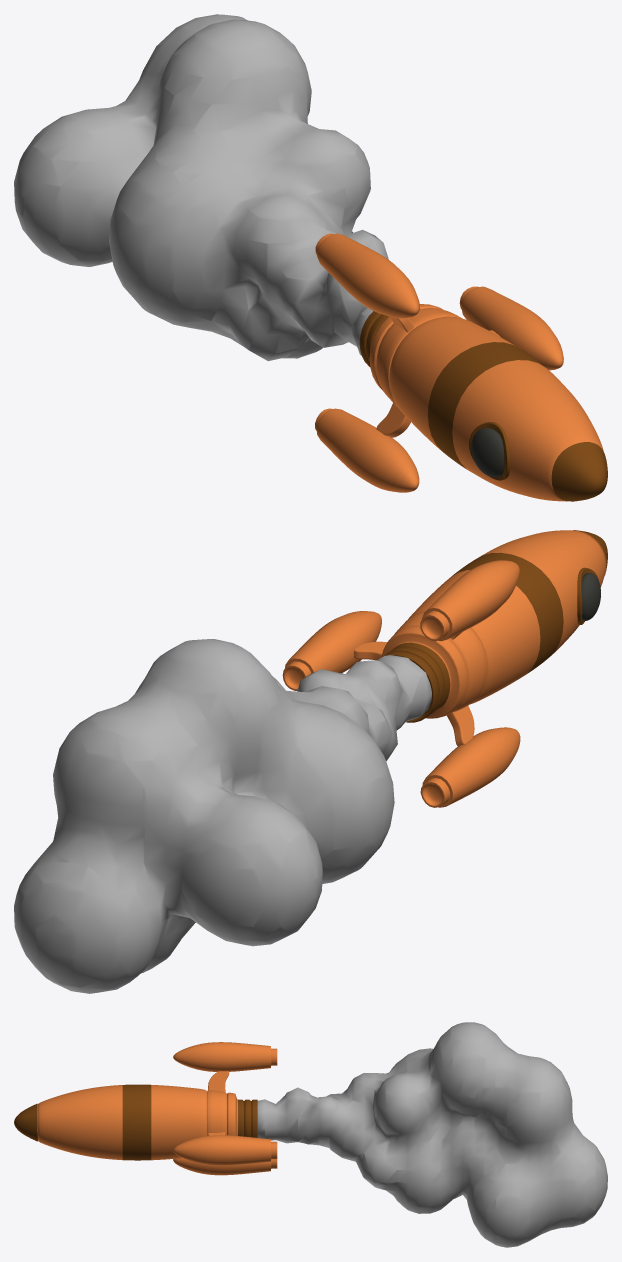
Rendered from rocket_done.fbx.
The picture shows the model from 3 angles, top to bottom: view 1: azimuth 30°, elevation 25°; view 2: azimuth 150°, elevation 25°; view 3: azimuth 270°, elevation 25°; orthographic projection. The views are drawn at different scales.
Visible parts, largest first — view 1: Mball.026, Cube, Cube.001, Cube.005, Cube.003, Sphere, Cube.006; view 2: Mball.026, Cube, Cube.001, Cube.005, Cube.003, Sphere, Cube.006; view 3: Mball.026, Cube, Cube.003, Cube.001, Cube.005, Cube.002.
Boxes of the visible parts, <box> form: Mball.026: <box>14,14,388,361</box>; Cube: <box>359,304,607,501</box>; Cube.001: <box>315,233,419,318</box>; Cube.005: <box>315,408,419,492</box>; Cube.003: <box>459,286,563,370</box>; Sphere: <box>471,428,504,477</box>; Cube.006: <box>376,403,410,437</box>; Mball.026: <box>14,639,431,993</box>; Cube: <box>381,530,607,722</box>; Cube.001: <box>420,560,519,641</box>; Cube.005: <box>420,727,520,807</box>; Cube.003: <box>282,611,381,690</box>; Sphere: <box>582,573,600,620</box>; Cube.006: <box>447,705,474,746</box>; Mball.026: <box>257,1022,607,1247</box>; Cube: <box>14,1084,257,1160</box>; Cube.003: <box>173,1135,277,1165</box>; Cube.001: <box>173,1042,277,1071</box>; Cube.005: <box>173,1158,277,1175</box>; Cube.002: <box>207,1071,229,1092</box>.
Bounding box in the file's own units: 5.32 × 5.71 × 15.57.
